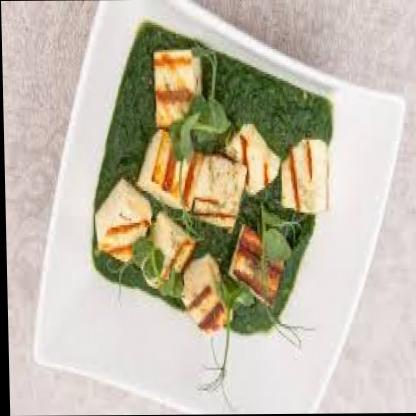palak_paneer: (85, 22, 335, 335)
